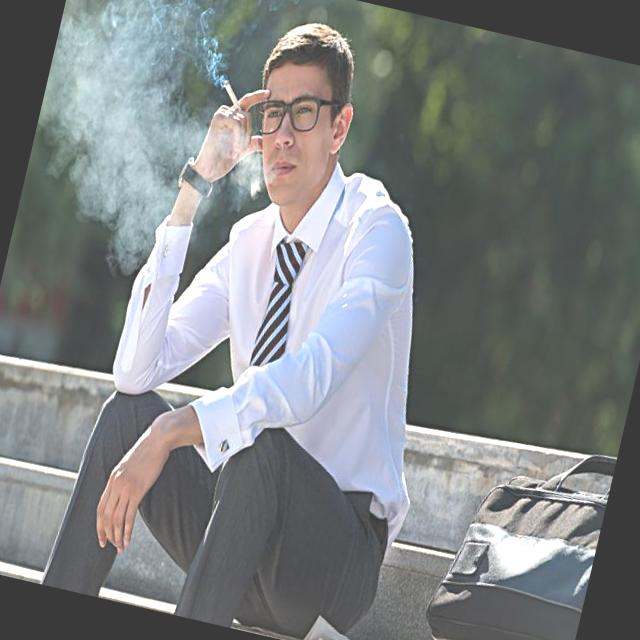cigarette: (210, 64, 256, 124)
